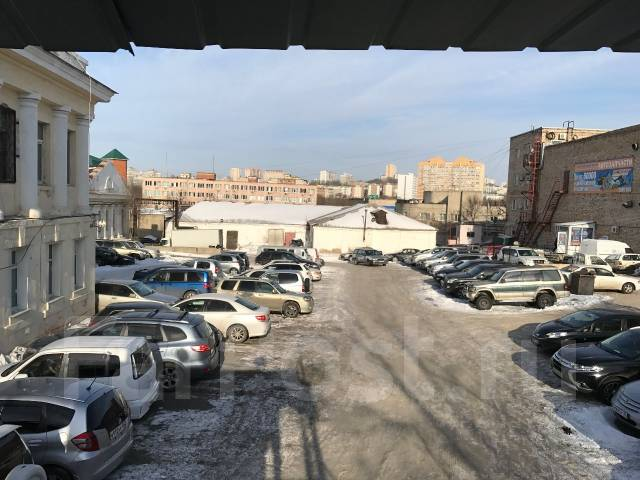Car: (0, 377, 133, 480), (0, 335, 160, 420), (69, 309, 219, 391), (550, 326, 640, 403), (89, 301, 222, 347), (531, 303, 640, 356), (172, 294, 271, 344), (462, 267, 571, 310), (217, 276, 314, 317), (444, 263, 535, 299), (95, 279, 181, 314), (0, 424, 48, 480), (131, 268, 215, 300), (560, 264, 640, 294), (434, 260, 513, 286), (133, 265, 219, 288), (239, 267, 312, 294), (250, 259, 322, 281), (610, 380, 640, 431), (427, 254, 491, 277), (421, 250, 481, 271), (255, 251, 320, 269), (96, 239, 149, 261), (581, 238, 634, 259), (498, 246, 549, 267), (431, 260, 489, 278), (262, 262, 313, 282), (573, 251, 613, 273), (410, 247, 458, 265), (186, 258, 224, 280), (416, 250, 460, 269), (258, 246, 313, 261), (207, 254, 244, 276), (122, 240, 160, 260), (604, 253, 640, 274), (352, 247, 388, 266), (222, 251, 249, 273), (384, 248, 421, 263), (95, 242, 118, 266), (108, 248, 135, 267), (401, 248, 433, 264), (307, 247, 320, 267), (339, 252, 353, 263), (319, 257, 325, 266)
